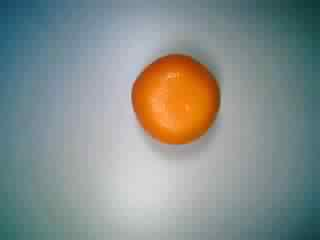orange: (127, 49, 223, 145)
